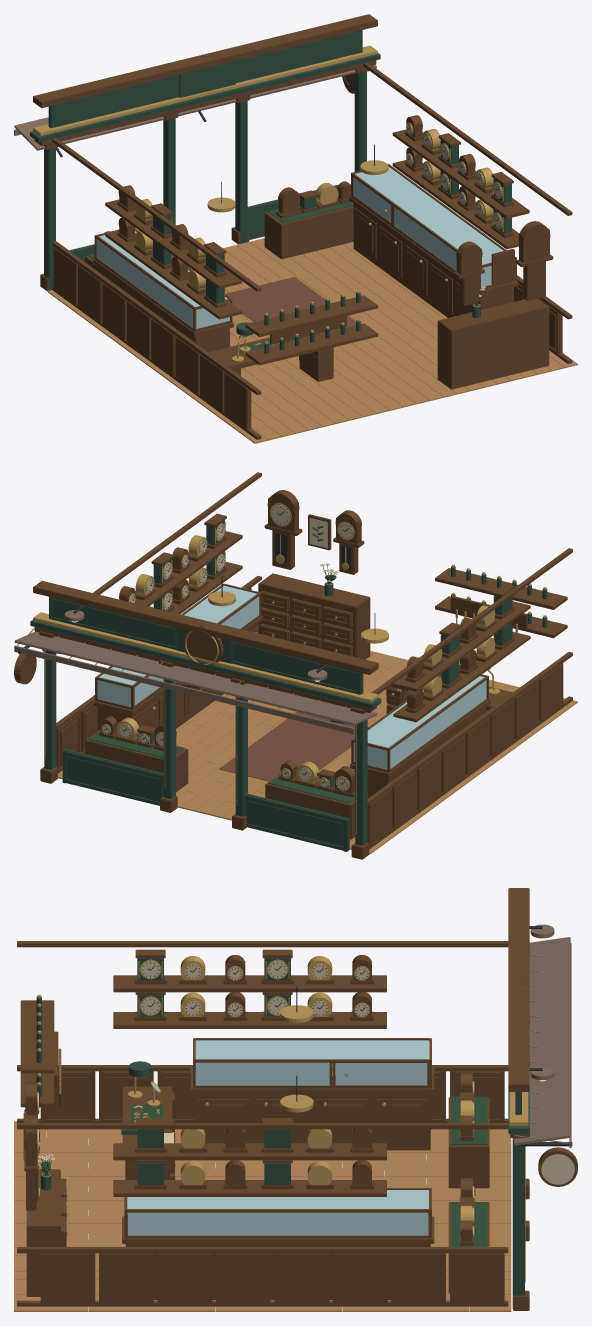
File: WalnutShop.fbx
3 views of the same model, one above another, from view 1: azimuth 30°, elevation 25°; view 2: azimuth 150°, elevation 25°; view 3: azimuth 270°, elevation 25° (orthographic). The views are drawn at different scales.
Visible parts, largest first — view 1: Module_OakFloor_ShopOak, Module_RepairBay_ShopWalnut, Module_Facade_ShopGreen, Module_InteriorJoinery_ShopWalnut, Module_LeftCabinet_ShopWalnut, Module_RightCabinet_ShopWalnut, Module_Facade_ShopWalnut, Module_LeftCabinet_ShopGlass, Module_WindowDisplay-1_ShopWalnut, Module_RightCabinet_ShopGlass, Woven rug, Module_Facade_ShopBrass (+9 smaller); view 2: Module_Facade_ShopGreen, Module_InteriorJoinery_ShopWalnut, Module_RepairBay_ShopWalnut, Module_OakFloor_ShopOak, Module_Facade_ShopWalnut, Module_Facade_ShopCopper, Module_RightCabinet_ShopWalnut, Module_LeftCabinet_ShopWalnut, Woven rug, Module_RightCabinet_ShopGlass, Module_Facade_ShopBrass, Module_WindowDisplay1_ShopWalnut (+15 smaller); view 3: Module_InteriorJoinery_ShopWalnut, Module_RightCabinet_ShopWalnut, Module_OakFloor_ShopOak, Module_LeftCabinet_ShopWalnut, Module_LeftCabinet_ShopGlass, Module_RepairBay_ShopWalnut, Module_Facade_ShopCopper, Module_RightCabinet_ShopGlass, Module_Facade_ShopWalnut, Module_WindowDisplay1_ShopWalnut, Module_RightCabinet_ShopIvory, Module_Facade_ShopGreen (+13 smaller).
Boxes of the visible parts, <box> form: Module_OakFloor_ShopOak: <box>47,238,577,443</box>; Module_RepairBay_ShopWalnut: <box>208,221,553,389</box>; Module_Facade_ShopGreen: <box>30,30,380,290</box>; Module_InteriorJoinery_ShopWalnut: <box>52,62,572,439</box>; Module_LeftCabinet_ShopWalnut: <box>349,115,529,317</box>; Module_RightCabinet_ShopWalnut: <box>93,185,242,352</box>; Module_Facade_ShopWalnut: <box>33,14,377,291</box>; Module_LeftCabinet_ShopGlass: <box>355,166,503,286</box>; Module_WindowDisplay-1_ShopWalnut: <box>264,181,353,259</box>; Module_RightCabinet_ShopGlass: <box>97,231,229,328</box>; Woven rug: <box>225,277,355,333</box>; Module_Facade_ShopBrass: <box>33,45,377,135</box>; Module_Facade_ShopGreen: <box>30,597,381,851</box>; Module_InteriorJoinery_ShopWalnut: <box>56,472,572,849</box>; Module_RepairBay_ShopWalnut: <box>258,490,567,713</box>; Module_OakFloor_ShopOak: <box>58,651,577,854</box>; Module_Facade_ShopWalnut: <box>14,581,378,859</box>; Module_Facade_ShopCopper: <box>14,610,377,734</box>; Module_RightCabinet_ShopWalnut: <box>350,584,530,798</box>; Module_LeftCabinet_ShopWalnut: <box>93,513,262,740</box>; Woven rug: <box>219,711,368,781</box>; Module_RightCabinet_ShopGlass: <box>354,676,486,769</box>; Module_Facade_ShopBrass: <box>33,612,378,834</box>; Module_WindowDisplay1_ShopWalnut: <box>265,760,367,839</box>; Module_InteriorJoinery_ShopWalnut: <box>17,941,508,1306</box>; Module_RightCabinet_ShopWalnut: <box>113,949,434,1150</box>; Module_OakFloor_ShopOak: <box>14,1121,511,1311</box>; Module_LeftCabinet_ShopWalnut: <box>113,1118,434,1299</box>; Module_LeftCabinet_ShopGlass: <box>127,1190,428,1235</box>; Module_RepairBay_ShopWalnut: <box>20,1000,175,1296</box>; Module_Facade_ShopCopper: <box>514,924,571,1147</box>; Module_RightCabinet_ShopGlass: <box>195,1040,428,1085</box>; Module_Facade_ShopWalnut: <box>508,888,577,1310</box>; Module_WindowDisplay1_ShopWalnut: <box>448,1073,489,1188</box>; Module_RightCabinet_ShopIvory: <box>141,961,369,1075</box>; Module_Facade_ShopGreen: <box>508,1091,529,1308</box>.
Bounding box in the file's own units: 762 × 411 × 907.
